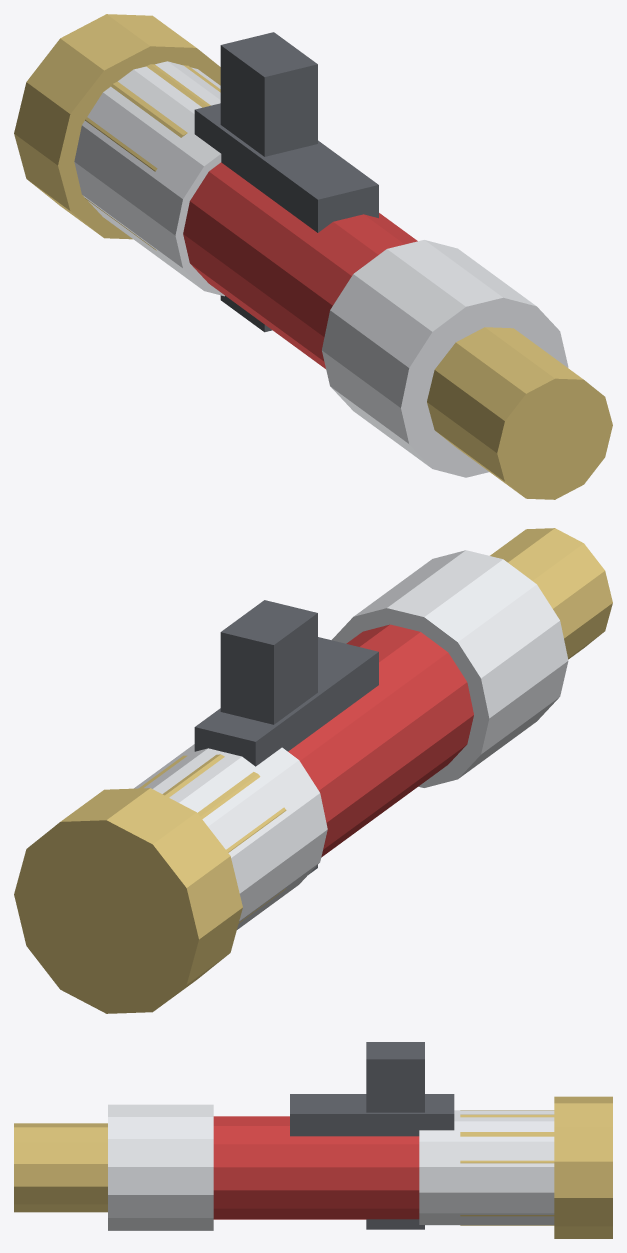
The model's file is fire-and-emergency-services-branch-nozzle-b4e235ce__29907.glb.
The picture shows the model from 3 angles, top to bottom: view 1: azimuth 30°, elevation 25°; view 2: azimuth 150°, elevation 25°; view 3: azimuth 270°, elevation 25°; orthographic projection. The views are drawn at different scales.
Parts seen in each view (by area): view 1: branch-nozzle; view 2: branch-nozzle; view 3: branch-nozzle.
Part boxes in pixels (x1,y1,x2,y2): branch-nozzle: (14,14,612,499); branch-nozzle: (14,528,612,1013); branch-nozzle: (14,1042,612,1238).
Bounding box in the file's own units: 0.1215 × 0.1707 × 0.51.
